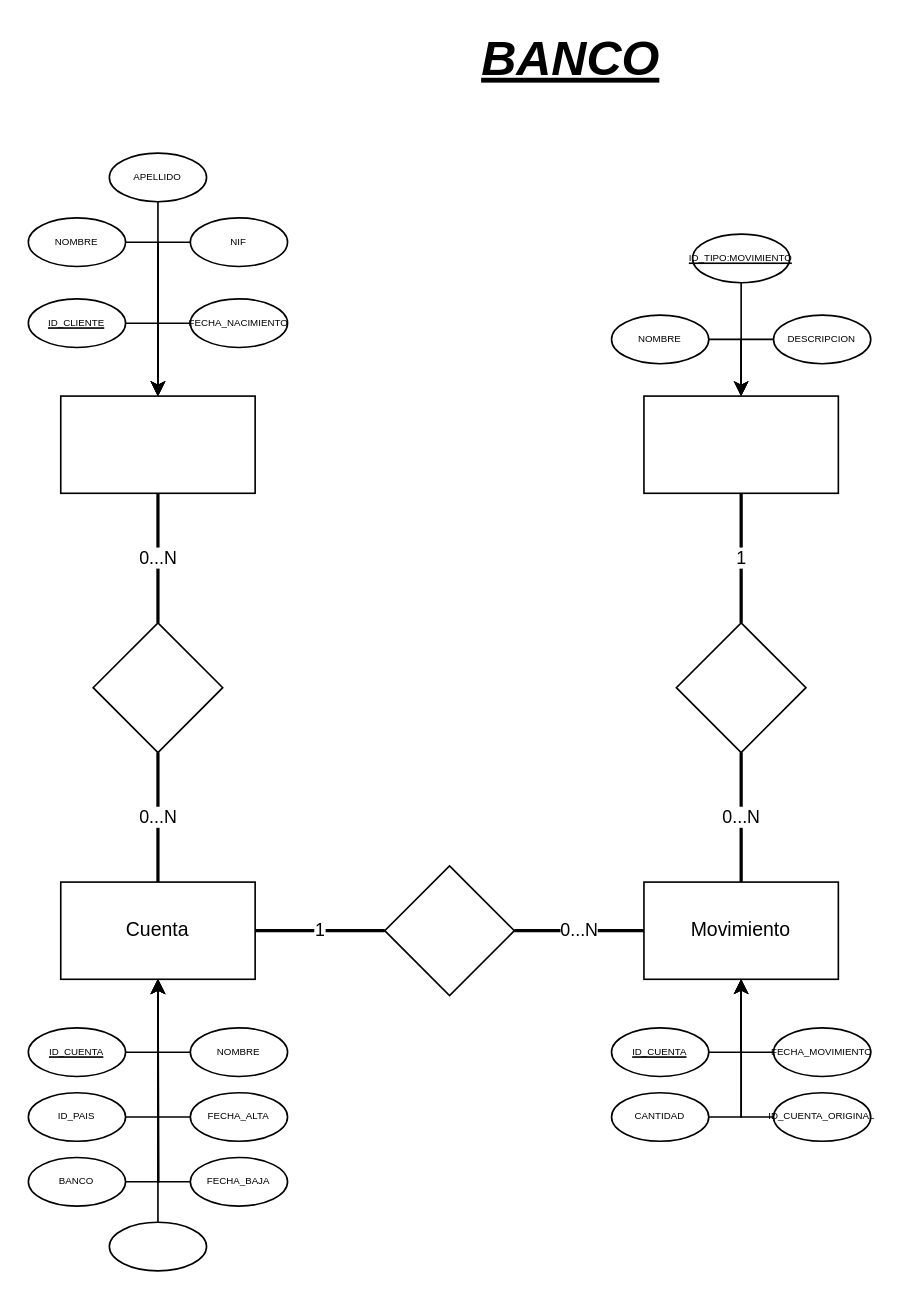
Some shapes in this 904 by 1312 pixel diagram are drawn without their labels. The centre of each missing label's shape, as x and y in pixels:
ACTIVA: the point at 157,1246
Cliente: the point at 157,443
Es: the point at 740,686
pertenece: the point at 157,686
Tiene: the point at 448,929
Tipo: the point at 740,443
